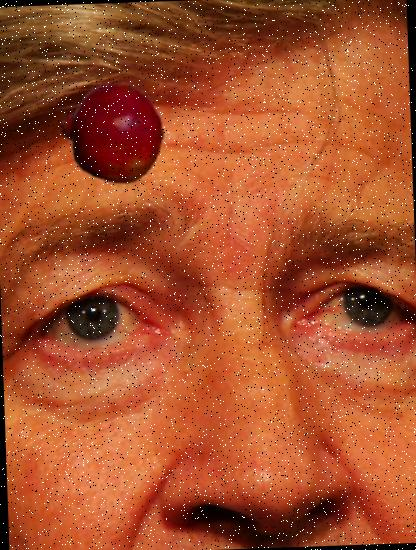Pomegranate: (60, 81, 167, 188)
